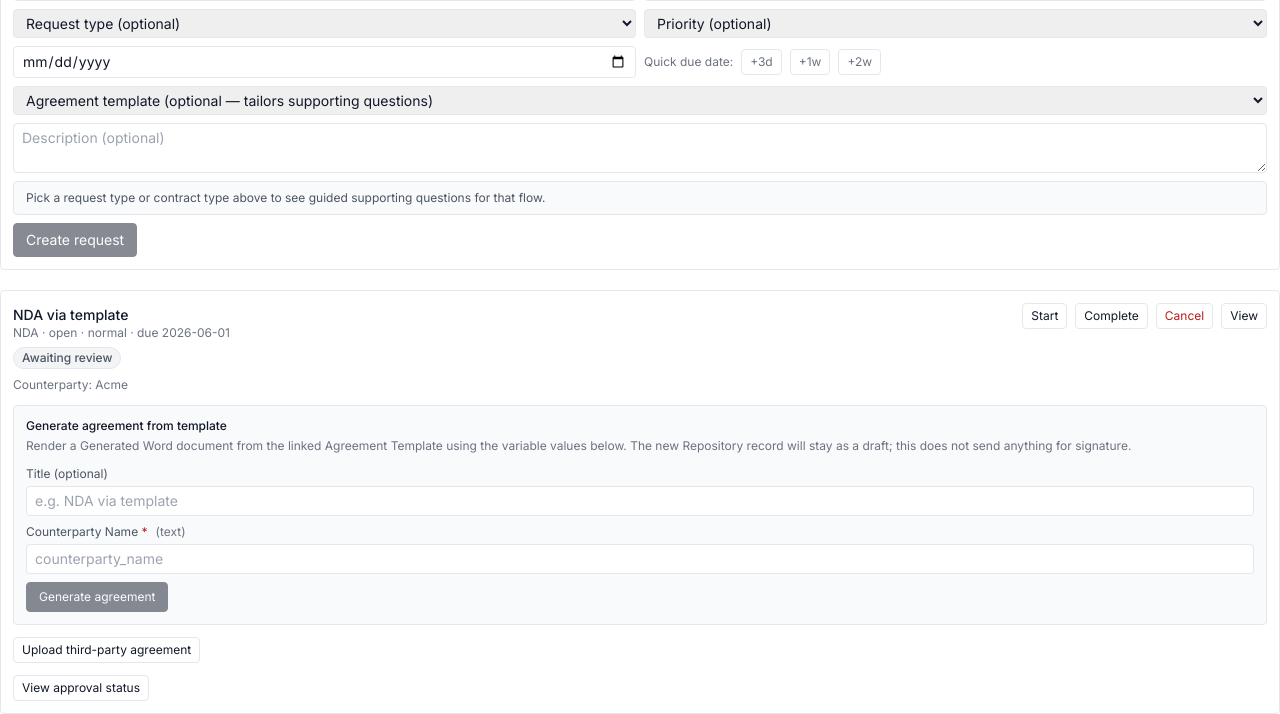
Test case: RequestsPage › surfaces a backend error in the convert form
(page scrolled)
Expected: the link "NDA via template" is shown, [13,306,128,323]
Type "Acme" into the field with test id "request-convert-input-counterparty_name" at [640, 559], box [26,544,1254,574]
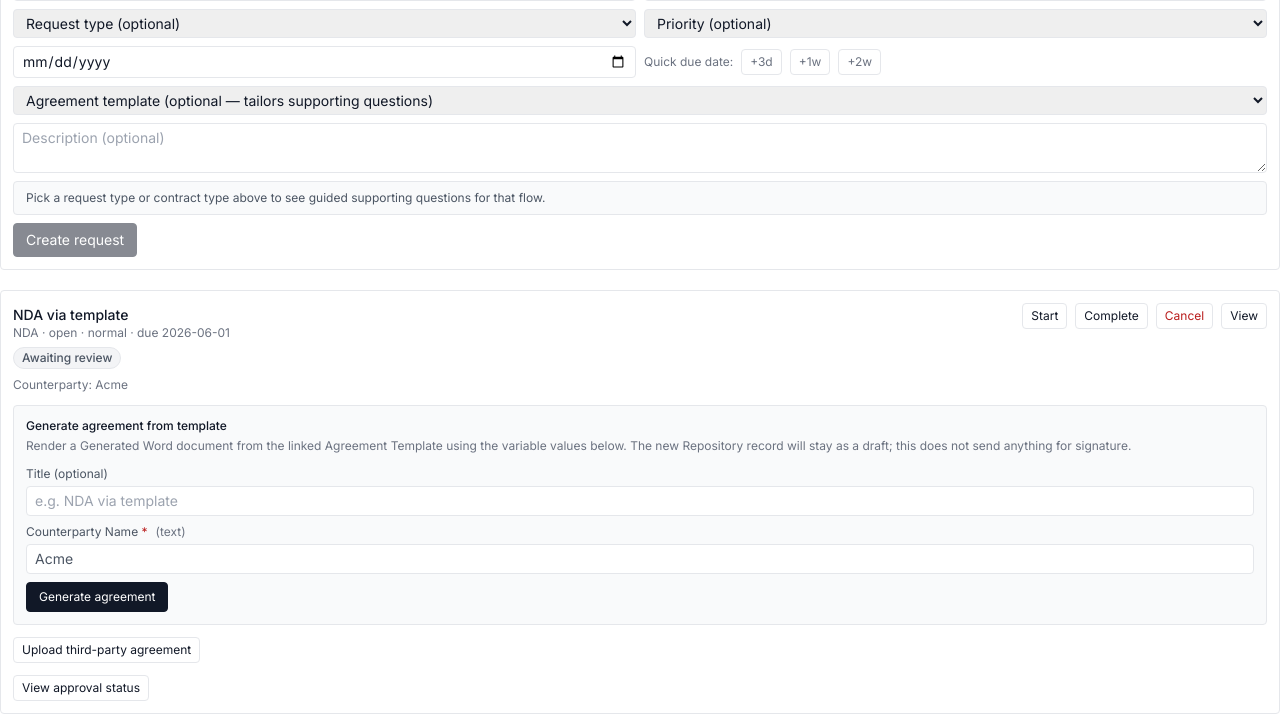
Click the button with test id "request-convert-submit" at [97, 597], box [26,582,168,612]
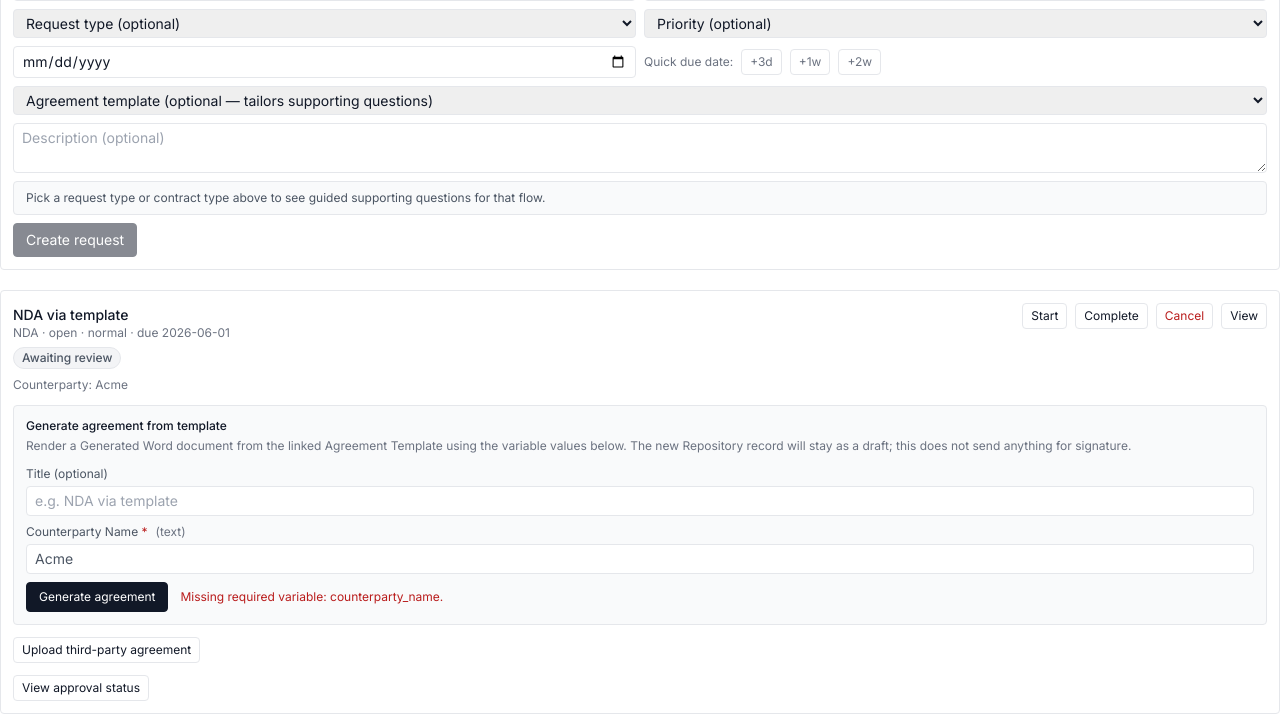
Expected: the text with test id "request-convert-error" shows "Missing required variable", [180,589,443,604]
